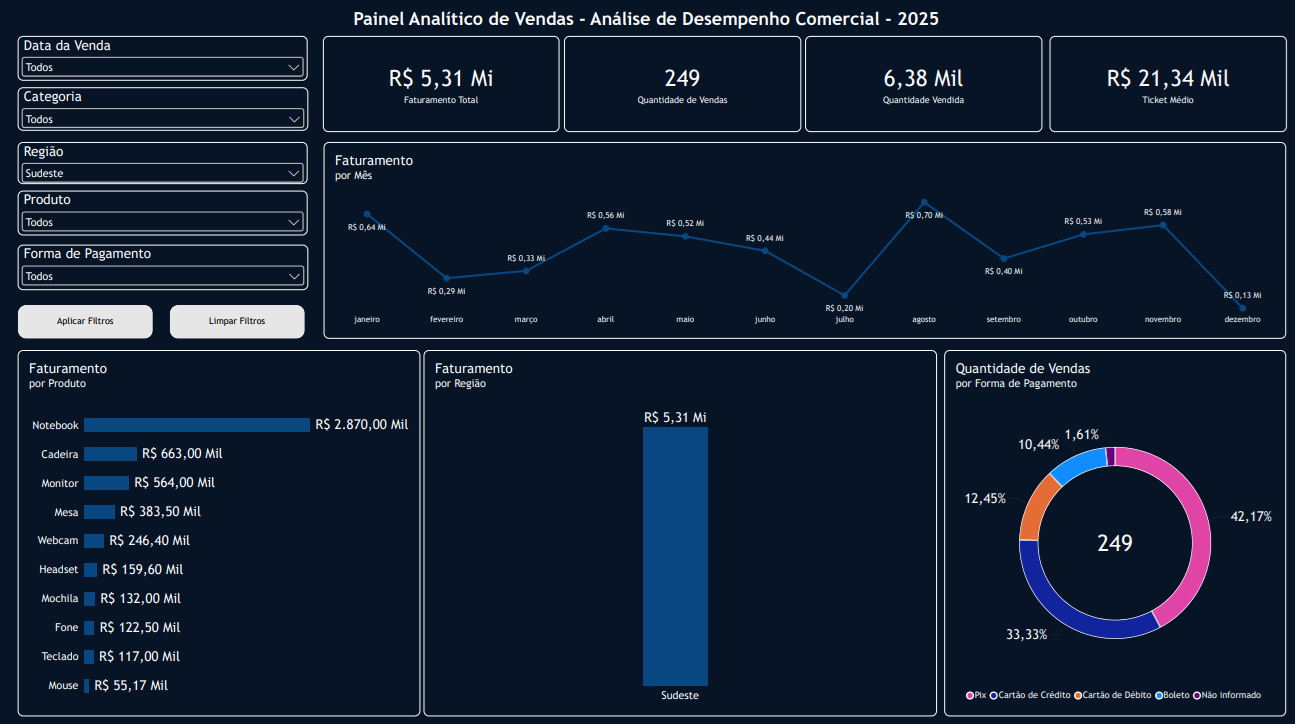

This screenshot's page, from the dashboard's own definition file:
{"tool":"powerbi","page":{"name":"Página 1","canvas":[1920,1080],"ordinal":0},"visuals":[{"type":"card","fields":{"Values":["Medidas.Faturamento_total"]},"box":[481,55.7,350,142.5],"z":0},{"type":"card","fields":{"Values":["Medidas.Quantidade de Vendas"]},"box":[838.2,55.7,351,142.5],"z":1000},{"type":"card","fields":{"Values":["Medidas.Quantidade Vendida"]},"box":[1195.4,55.7,351,142.5],"z":2000},{"type":"card","fields":{"Values":["Medidas.Ticket Médio"]},"box":[1556.6,55.7,351,142.5],"z":3000},{"type":"lineChart","title":"Faturamento","fields":{"Category":["vendas_limpa.Mes_Ano.Variation.Hierarquia de datas.Mês"],"Y":["Medidas.Faturamento Total"]},"box":[481.6,212.6,1425.9,291.9],"z":4000},{"type":"clusteredBarChart","title":"Faturamento","fields":{"Category":["vendas_limpa.Produto"],"Y":["Medidas.Faturamento Total"]},"box":[29.2,521.2,596.2,542],"z":5000},{"type":"clusteredColumnChart","title":"Faturamento","fields":{"Category":["vendas_limpa.Regiao"],"Y":["Medidas.Faturamento Total"]},"box":[629.6,521.2,760.9,542],"z":6000},{"type":"slicer","fields":{"Values":["vendas_limpa.Data_Venda"]},"box":[28.9,55.7,429.4,66.1],"z":7000},{"type":"slicer","fields":{"Values":["vendas_limpa.Categoria"]},"box":[29.5,131.6,430,64.8],"z":8000},{"type":"slicer","fields":{"Values":["vendas_limpa.Regiao"]},"box":[28.9,212.6,429.4,61.9],"z":9000},{"type":"slicer","fields":{"Values":["vendas_limpa.Produto"]},"box":[28.9,284.9,429.4,66.1],"z":10000},{"type":"donutChart","title":"Quantidade de Vendas","fields":{"Category":["vendas_limpa.Forma_Pagamento"],"Y":["Medidas.Quantidade de Vendas"]},"box":[1400.9,521.2,506.6,542],"z":11000},{"type":"textbox","box":[487.7,13.7,944.5,82.5],"z":12000},{"type":"slicer","fields":{"Values":["vendas_limpa.Forma_Pagamento"]},"box":[29.5,365.2,430,66.8],"z":13000},{"type":"actionButton","box":[28.9,454.2,200,50],"z":14000},{"type":"actionButton","box":[253.9,454.2,200.3,49.5],"z":15000}]}

Visuals, with their boxes in screenshot pixels (x1, y1, x2, y2), scaled from the page's 1920x1080 canvas onto the 1316x726 screenshot:
card - Medidas.Faturamento_total: left=330, top=37, right=570, bottom=133
card - Medidas.Quantidade de Vendas: left=575, top=37, right=815, bottom=133
card - Medidas.Quantidade Vendida: left=819, top=37, right=1060, bottom=133
card - Medidas.Ticket Médio: left=1067, top=37, right=1308, bottom=133
"Faturamento" lineChart: left=330, top=143, right=1307, bottom=339
"Faturamento" clusteredBarChart: left=20, top=350, right=429, bottom=715
"Faturamento" clusteredColumnChart: left=432, top=350, right=953, bottom=715
slicer - vendas_limpa.Data_Venda: left=20, top=37, right=314, bottom=82
slicer - vendas_limpa.Categoria: left=20, top=88, right=315, bottom=132
slicer - vendas_limpa.Regiao: left=20, top=143, right=314, bottom=185
slicer - vendas_limpa.Produto: left=20, top=192, right=314, bottom=236
"Quantidade de Vendas" donutChart: left=960, top=350, right=1307, bottom=715
textbox: left=334, top=9, right=982, bottom=65
slicer - vendas_limpa.Forma_Pagamento: left=20, top=245, right=315, bottom=290
actionButton: left=20, top=305, right=157, bottom=339
actionButton: left=174, top=305, right=311, bottom=339
